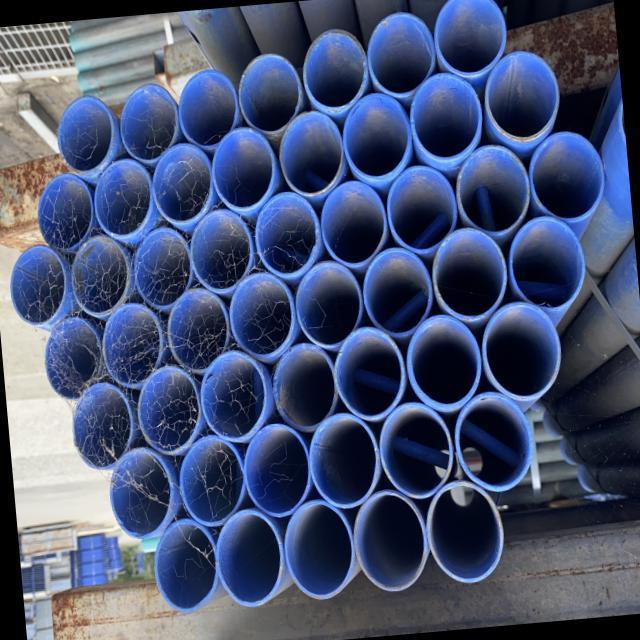pipe: (422, 476, 506, 588), (451, 387, 536, 496), (478, 297, 564, 404), (349, 484, 431, 596), (504, 212, 588, 315), (374, 398, 456, 503), (402, 310, 484, 415), (280, 495, 358, 603), (479, 46, 563, 145), (304, 409, 385, 511), (524, 128, 608, 225), (452, 142, 535, 240), (428, 224, 509, 324), (330, 322, 410, 423), (211, 504, 287, 610), (406, 68, 486, 166), (358, 243, 436, 341), (338, 89, 416, 187), (238, 420, 314, 520), (314, 176, 392, 272), (290, 256, 367, 353), (382, 163, 460, 258), (196, 348, 271, 446), (174, 431, 248, 530), (268, 338, 342, 436), (363, 6, 439, 100), (132, 362, 206, 458), (150, 515, 221, 615), (251, 188, 325, 282), (106, 443, 176, 542), (274, 107, 348, 200), (225, 268, 298, 361), (298, 26, 371, 118), (162, 284, 234, 377), (234, 49, 306, 140), (186, 205, 256, 298), (98, 299, 167, 392), (430, 0, 510, 80), (207, 123, 278, 213), (68, 379, 136, 472), (148, 138, 218, 228), (128, 223, 196, 313), (40, 313, 107, 404), (65, 232, 134, 320), (90, 155, 157, 243), (6, 241, 70, 331), (53, 91, 118, 178), (115, 80, 182, 164), (173, 67, 240, 151), (34, 170, 96, 254)
